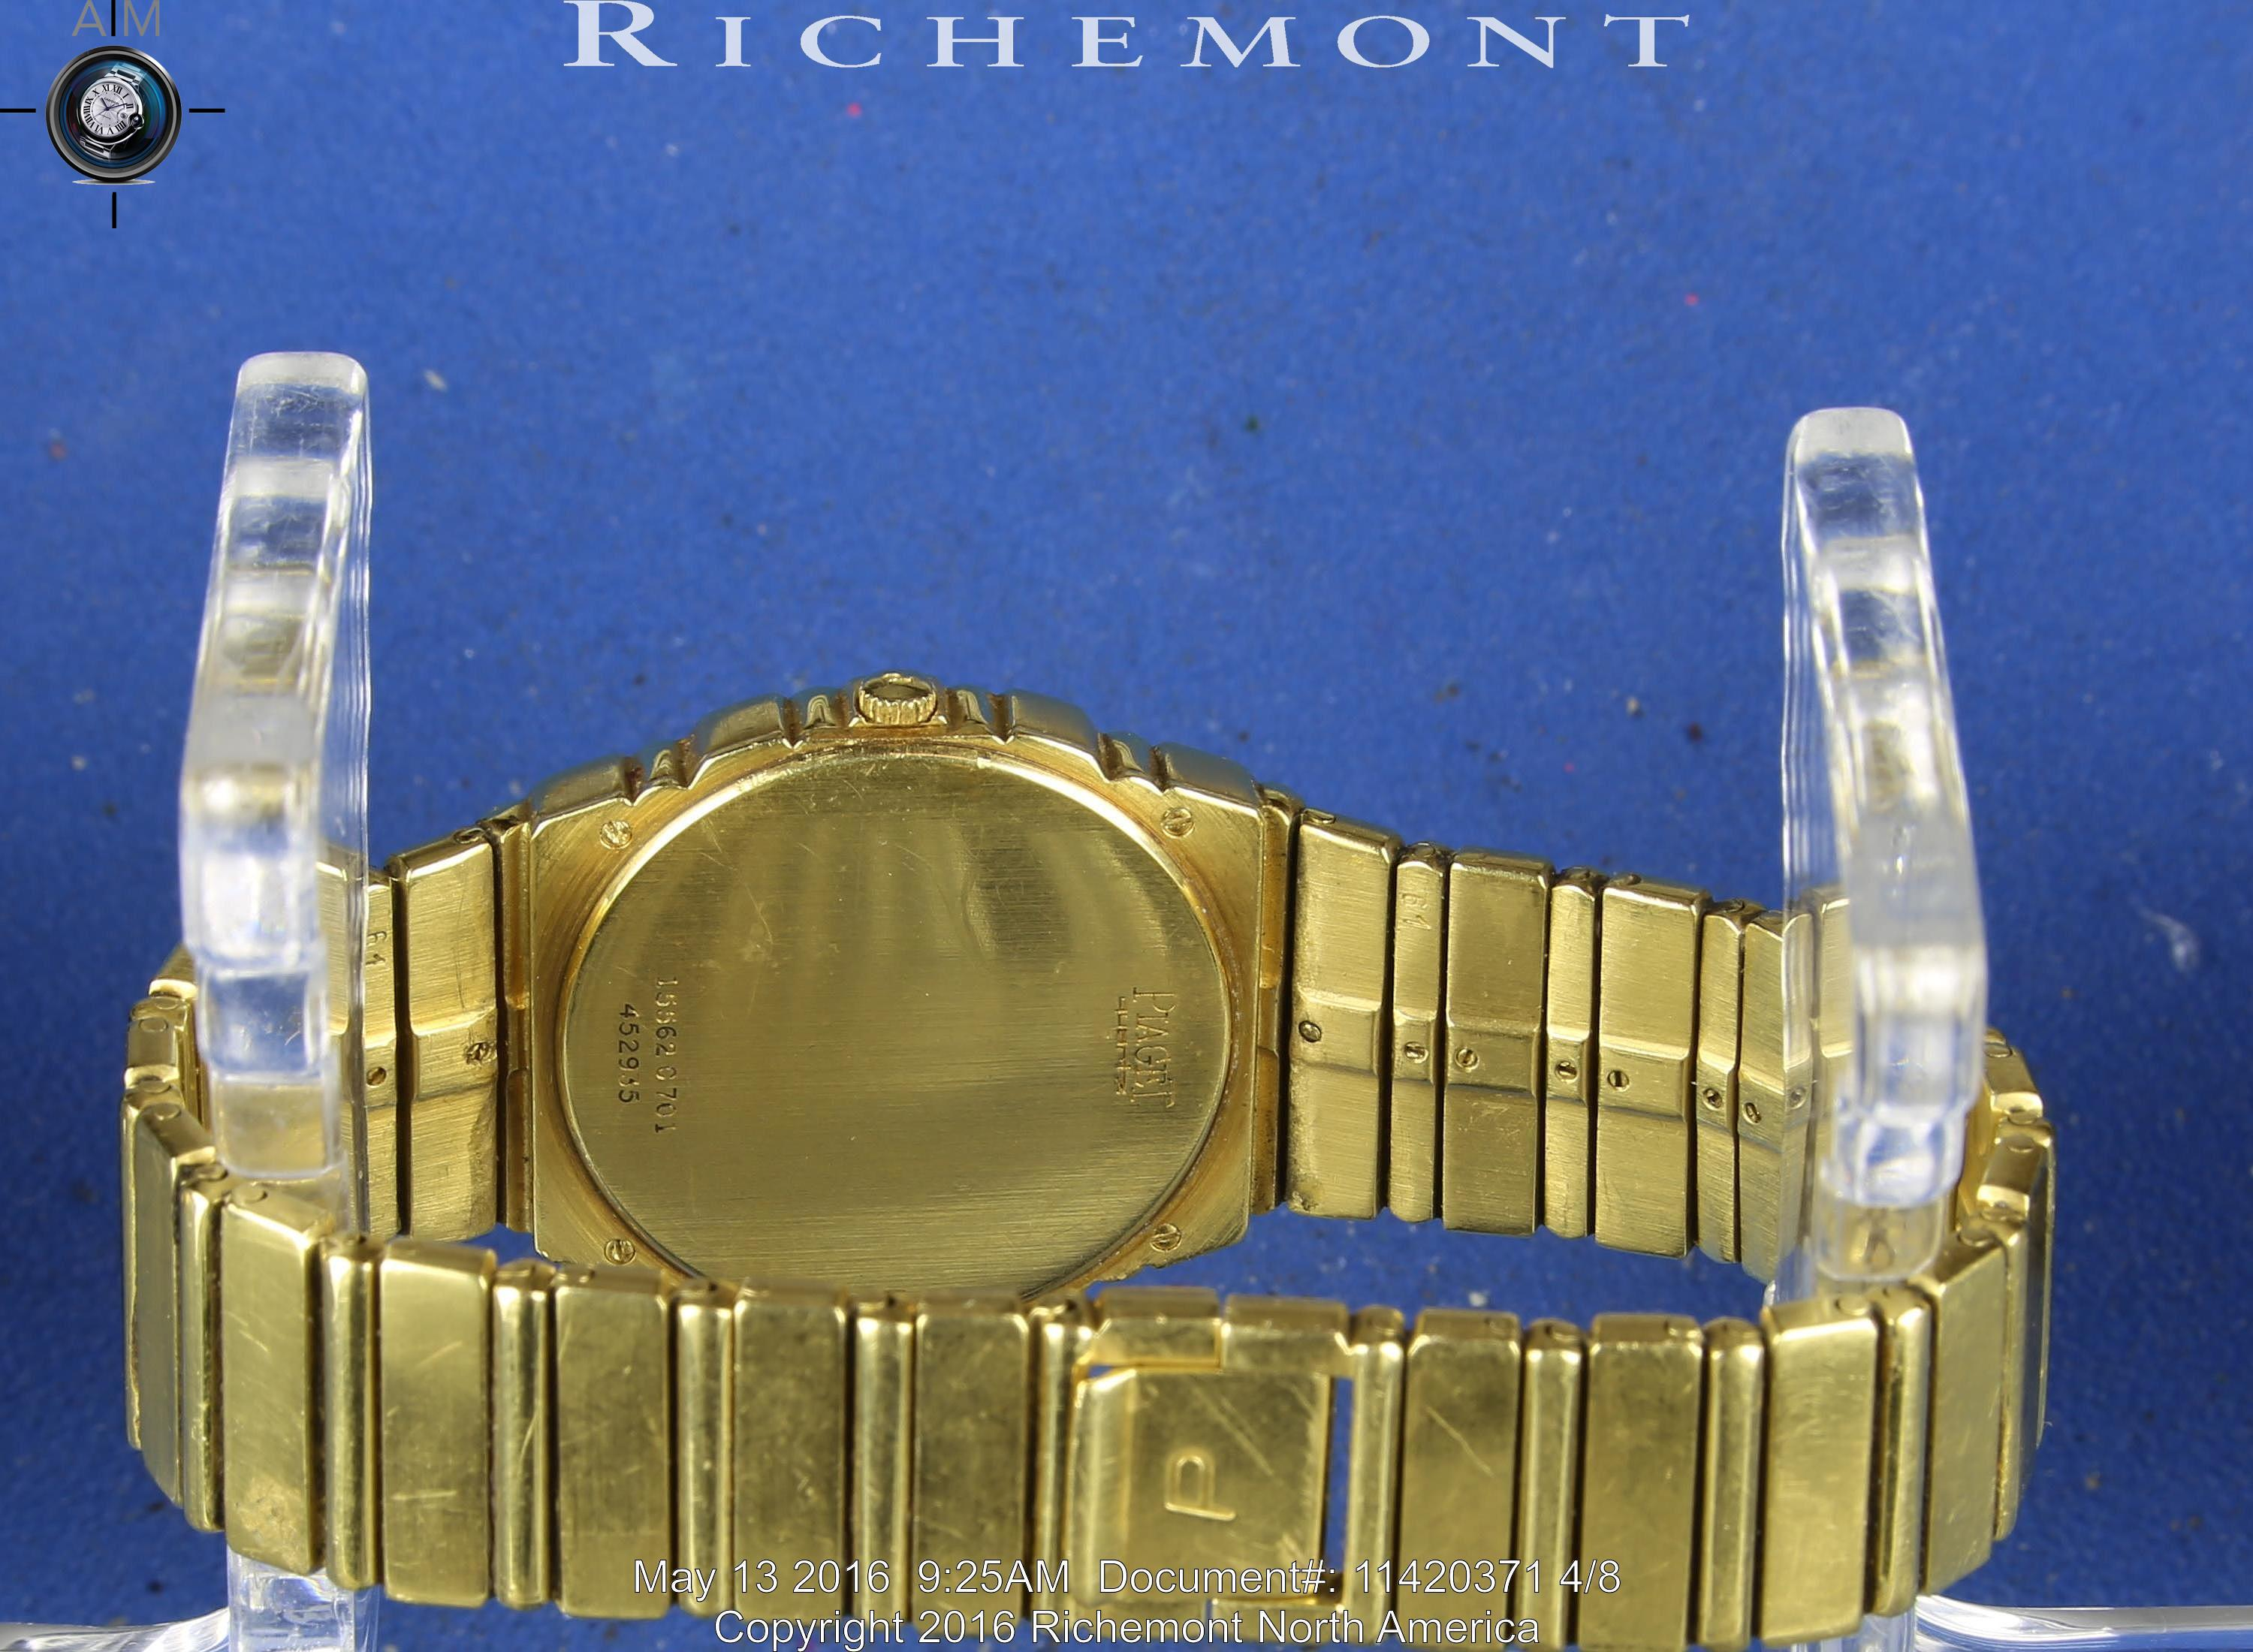Watch BackCase: (518, 656, 1272, 1273)
